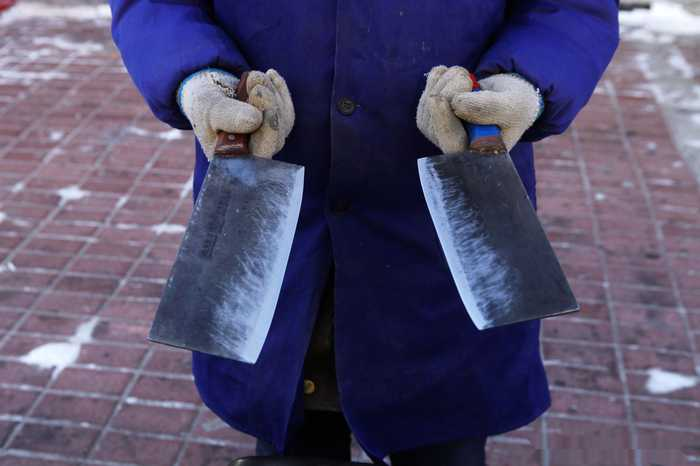knief: (155, 96, 320, 355)
